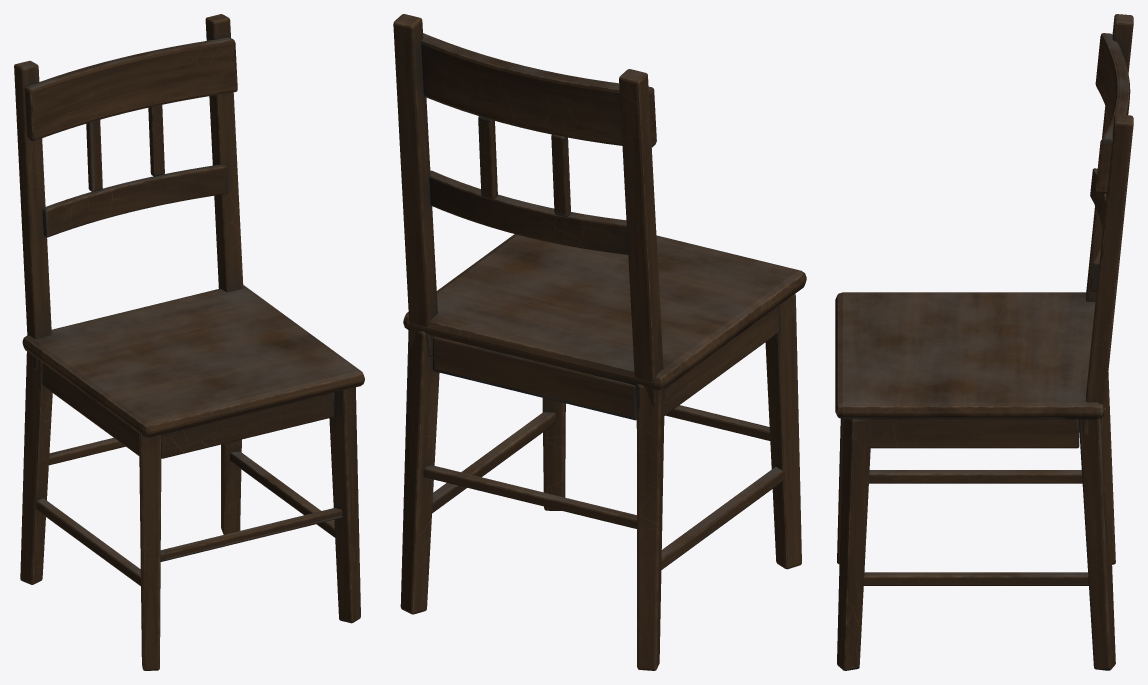
The model's file is Chair.fbx.
The picture shows the model from 3 angles, left to right: view 1: azimuth 30°, elevation 25°; view 2: azimuth 150°, elevation 25°; view 3: azimuth 270°, elevation 25°; orthographic projection. The views are drawn at different scales.
Visible parts, largest first — view 1: Chair_Mesh; view 2: Chair_Mesh; view 3: Chair_Mesh.
Boxes of the visible parts, box(x1,y1,x2,y2) form: Chair_Mesh: box(14, 14, 364, 670); Chair_Mesh: box(393, 14, 806, 670); Chair_Mesh: box(835, 14, 1133, 670).
Size of the model in its own units: 43 by 94.15 by 46.46.
1 material, 1 textured.
